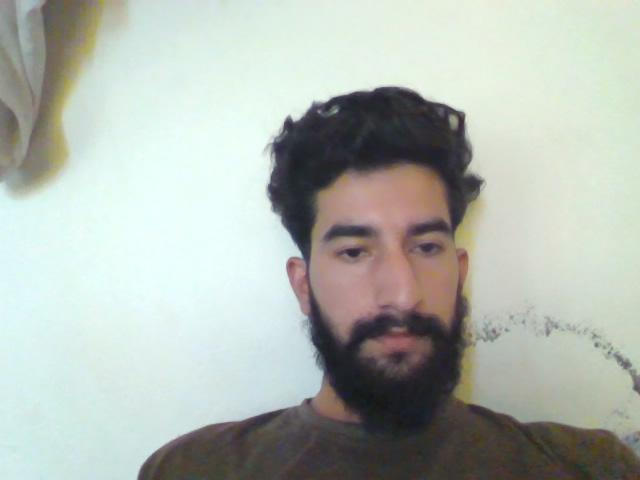hairnetless: (241, 72, 530, 239)
